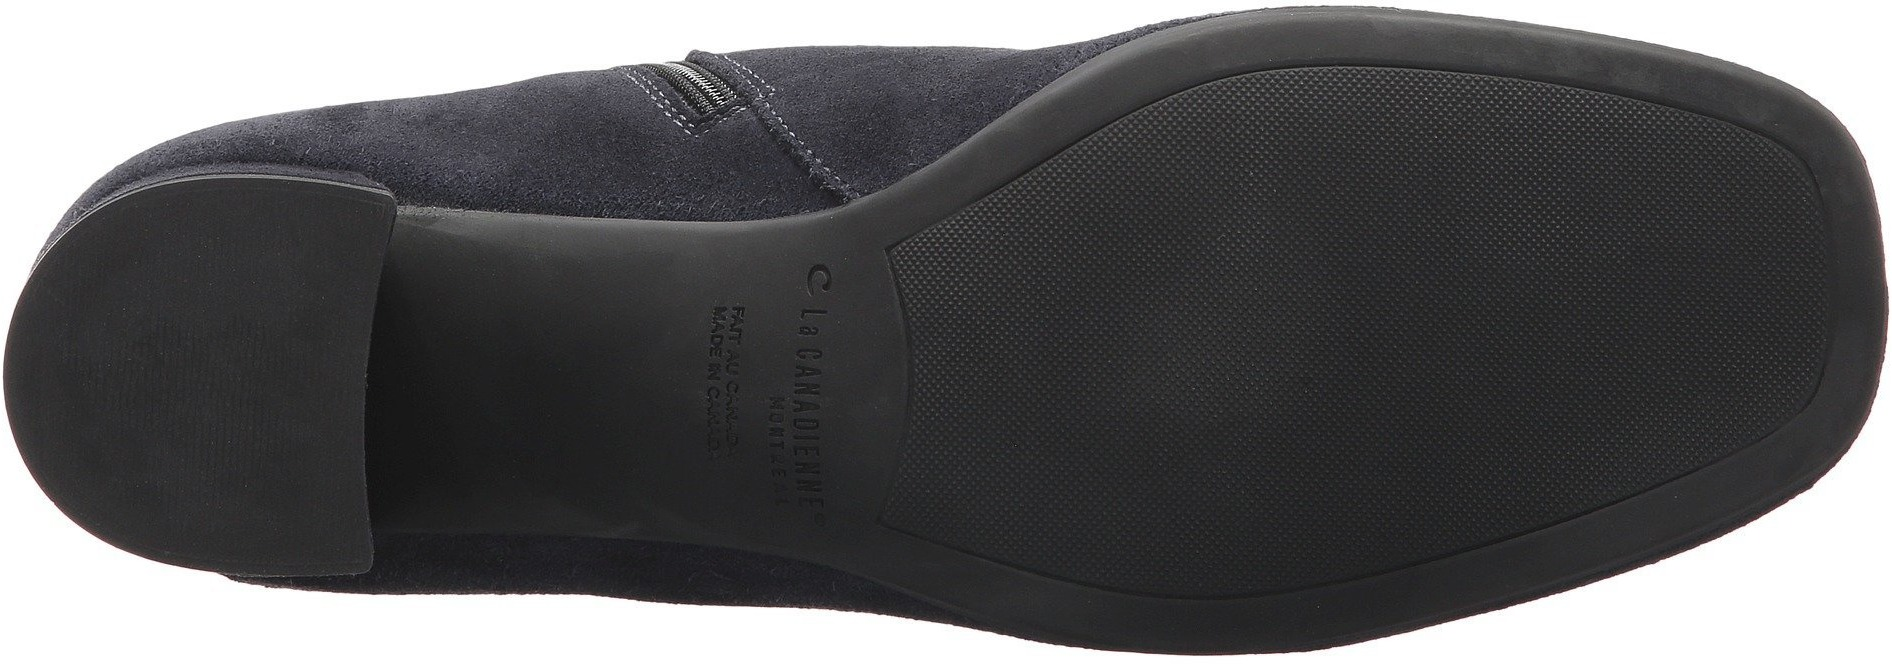other: (1331, 127, 1672, 459), (932, 243, 1294, 554), (51, 278, 294, 512), (1676, 199, 1830, 345), (1182, 82, 1318, 227)
text: (687, 247, 890, 541)
